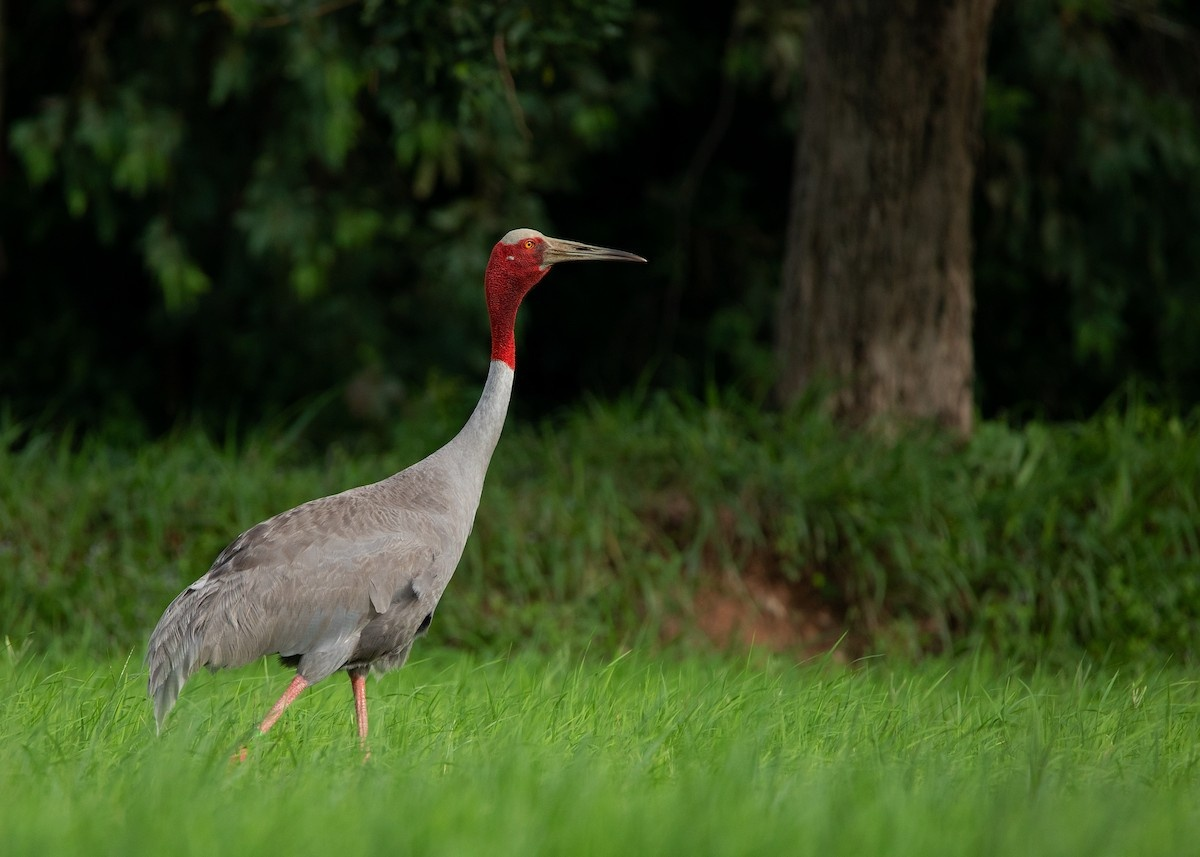crane: (152, 208, 666, 764)
